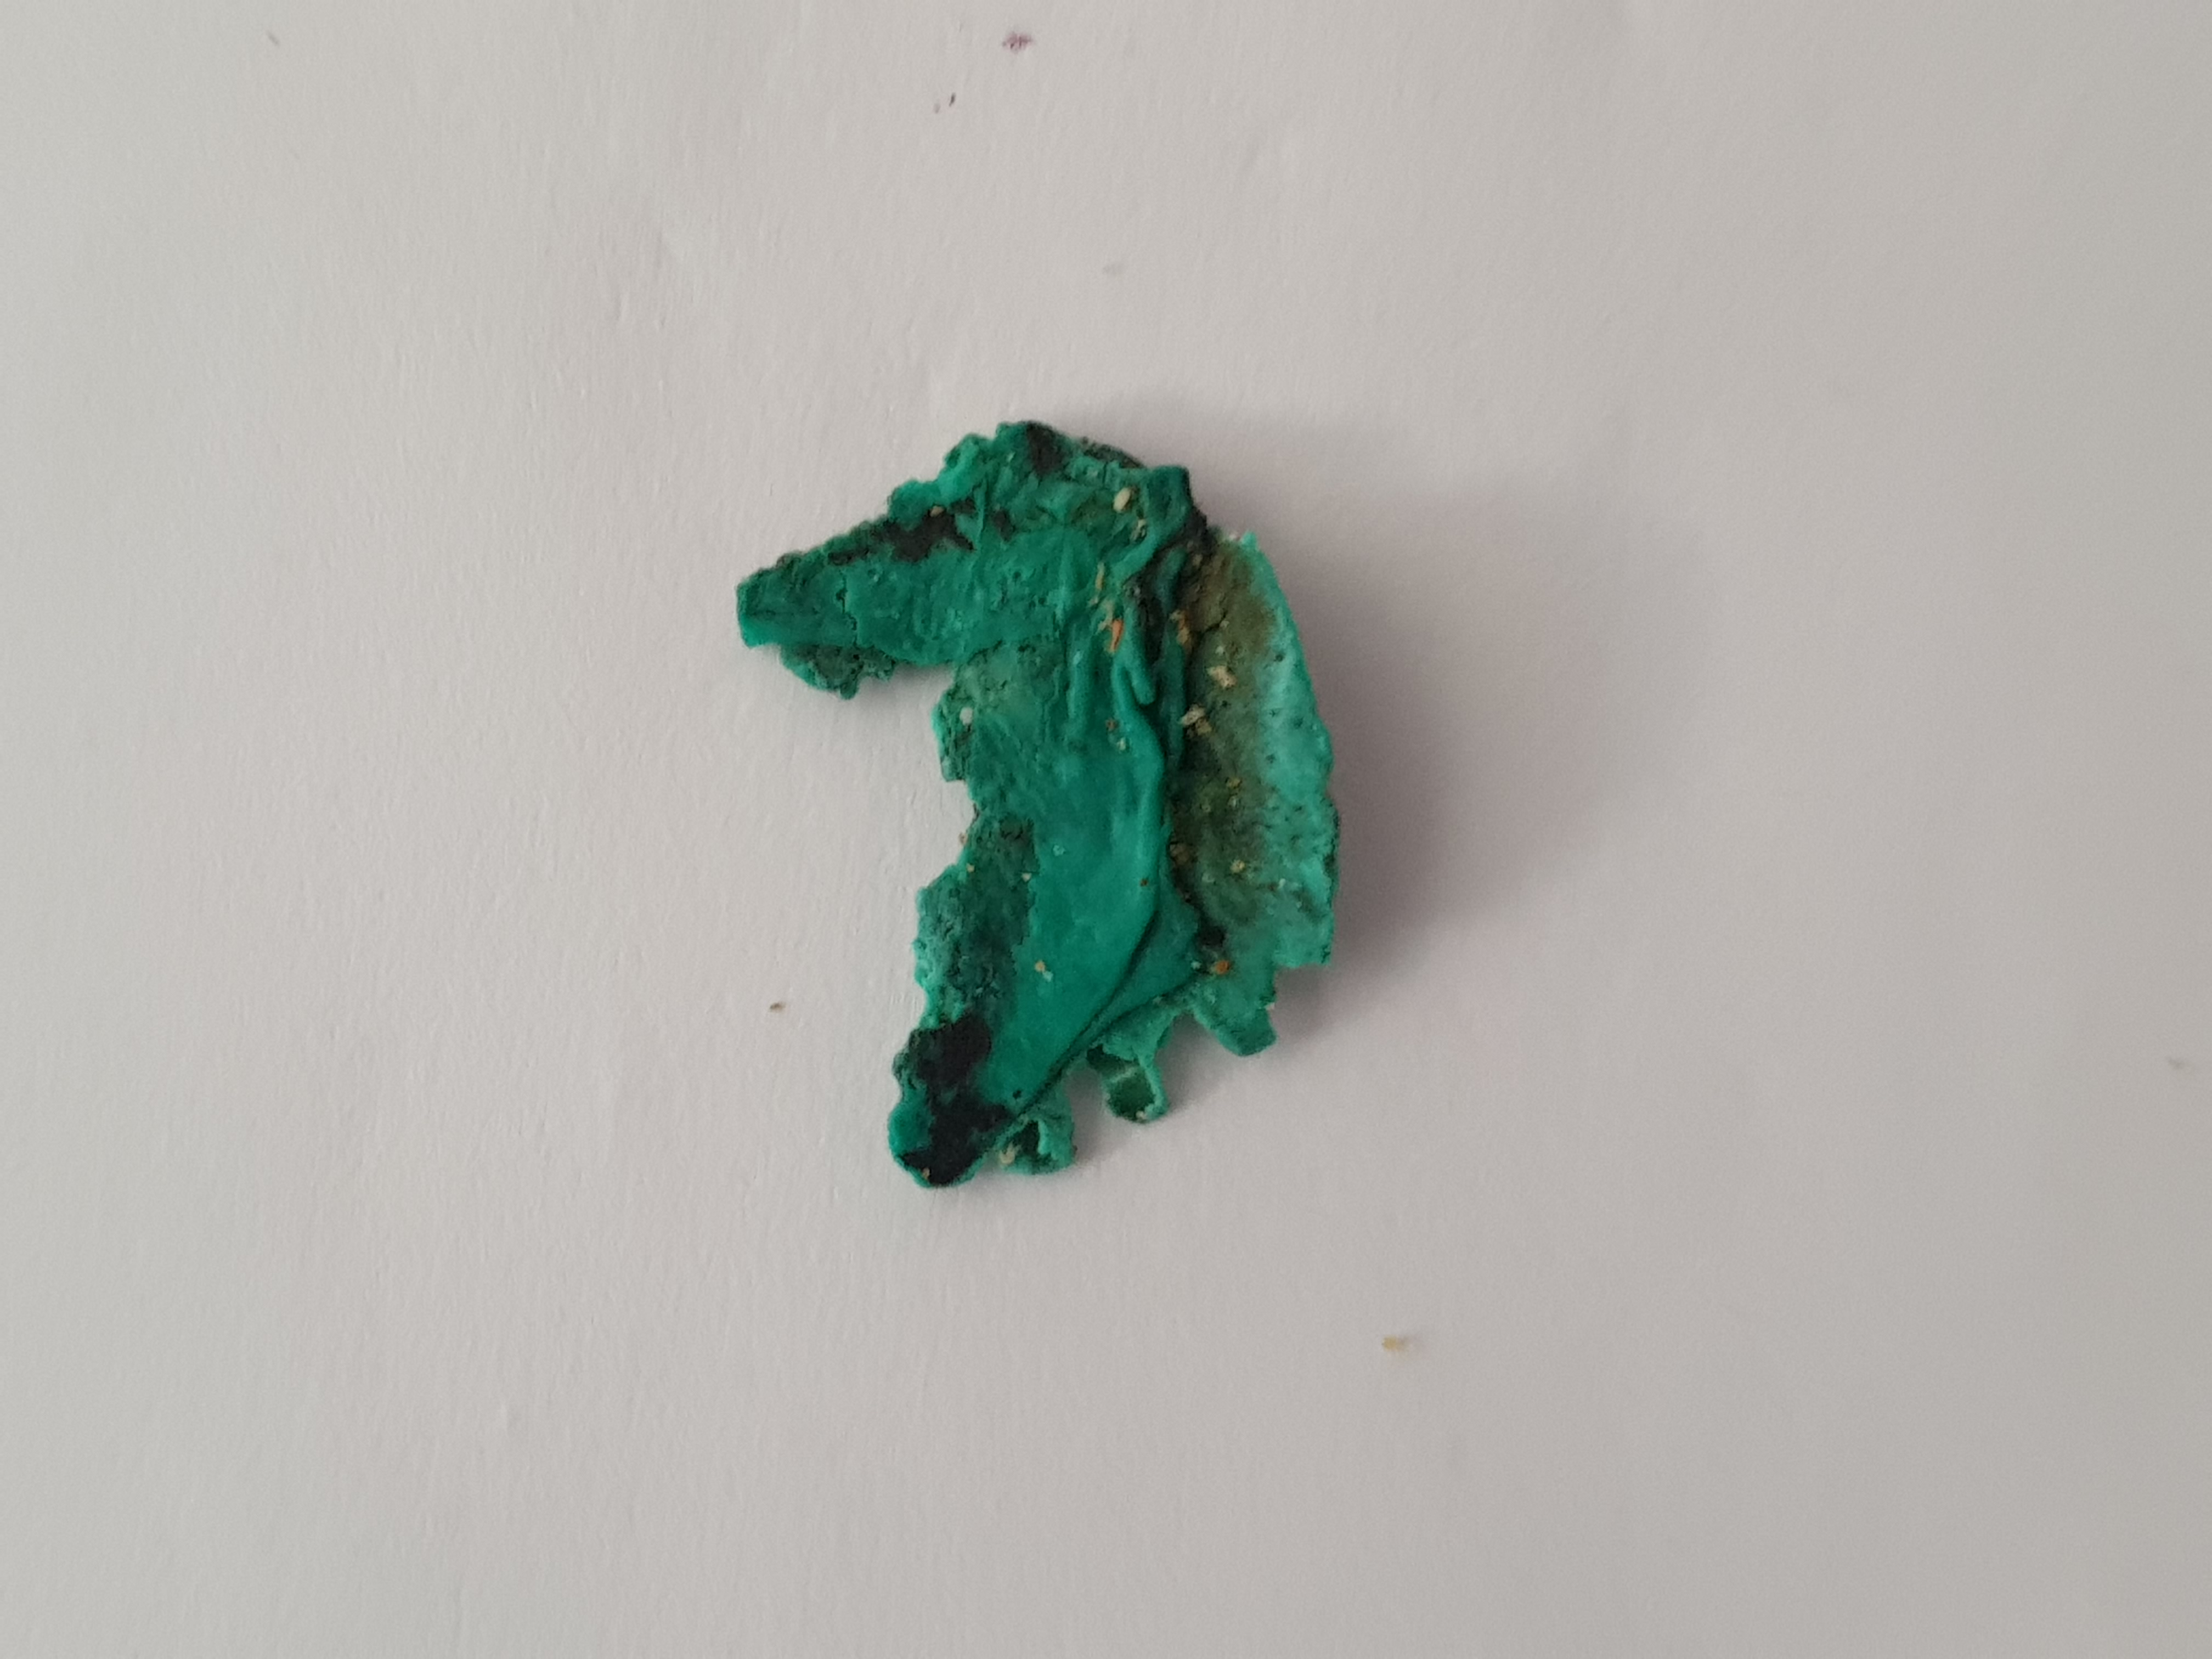plastic: (728, 390, 1357, 1234)
